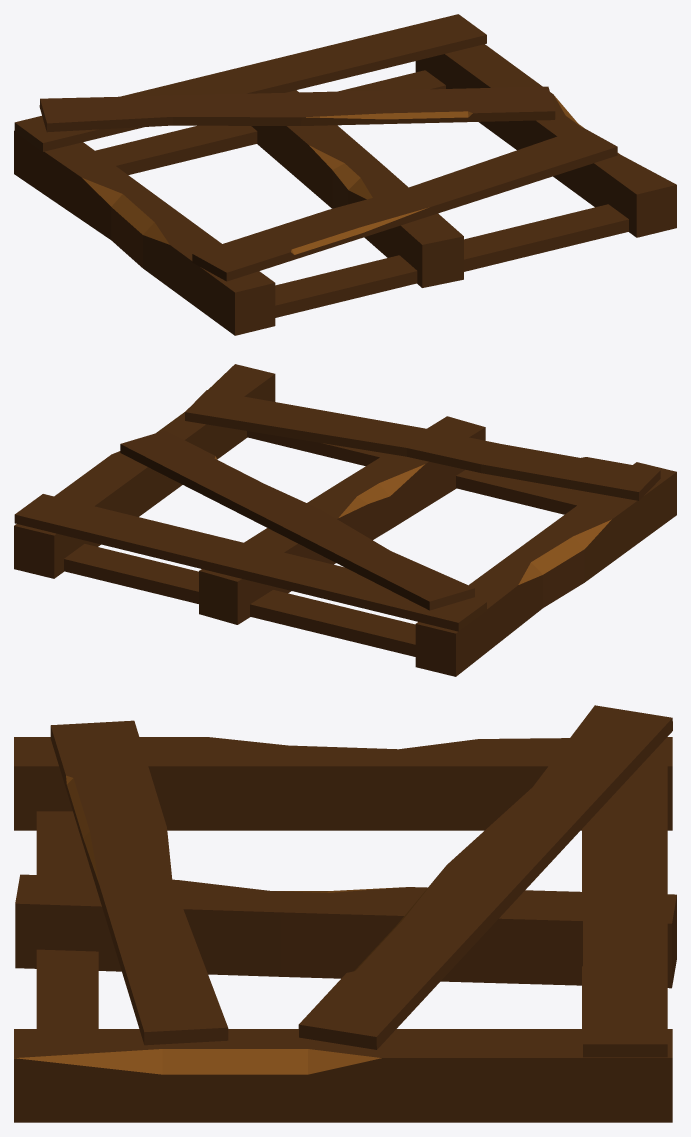
File: Pallet_Broken.obj
3 views of the same model, one above another, from view 1: azimuth 30°, elevation 25°; view 2: azimuth 150°, elevation 25°; view 3: azimuth 270°, elevation 25° (orthographic). The views are drawn at different scales.
Parts seen in each view (by area): view 1: Pallet_Broken_Cube.009; view 2: Pallet_Broken_Cube.009; view 3: Pallet_Broken_Cube.009.
Part boxes in pixels (bbox=[...]): Pallet_Broken_Cube.009: bbox=[14, 14, 676, 335]; Pallet_Broken_Cube.009: bbox=[14, 364, 676, 676]; Pallet_Broken_Cube.009: bbox=[14, 705, 676, 1122].
Bounding box in the file's own units: 1.69 × 0.2507 × 1.47.
